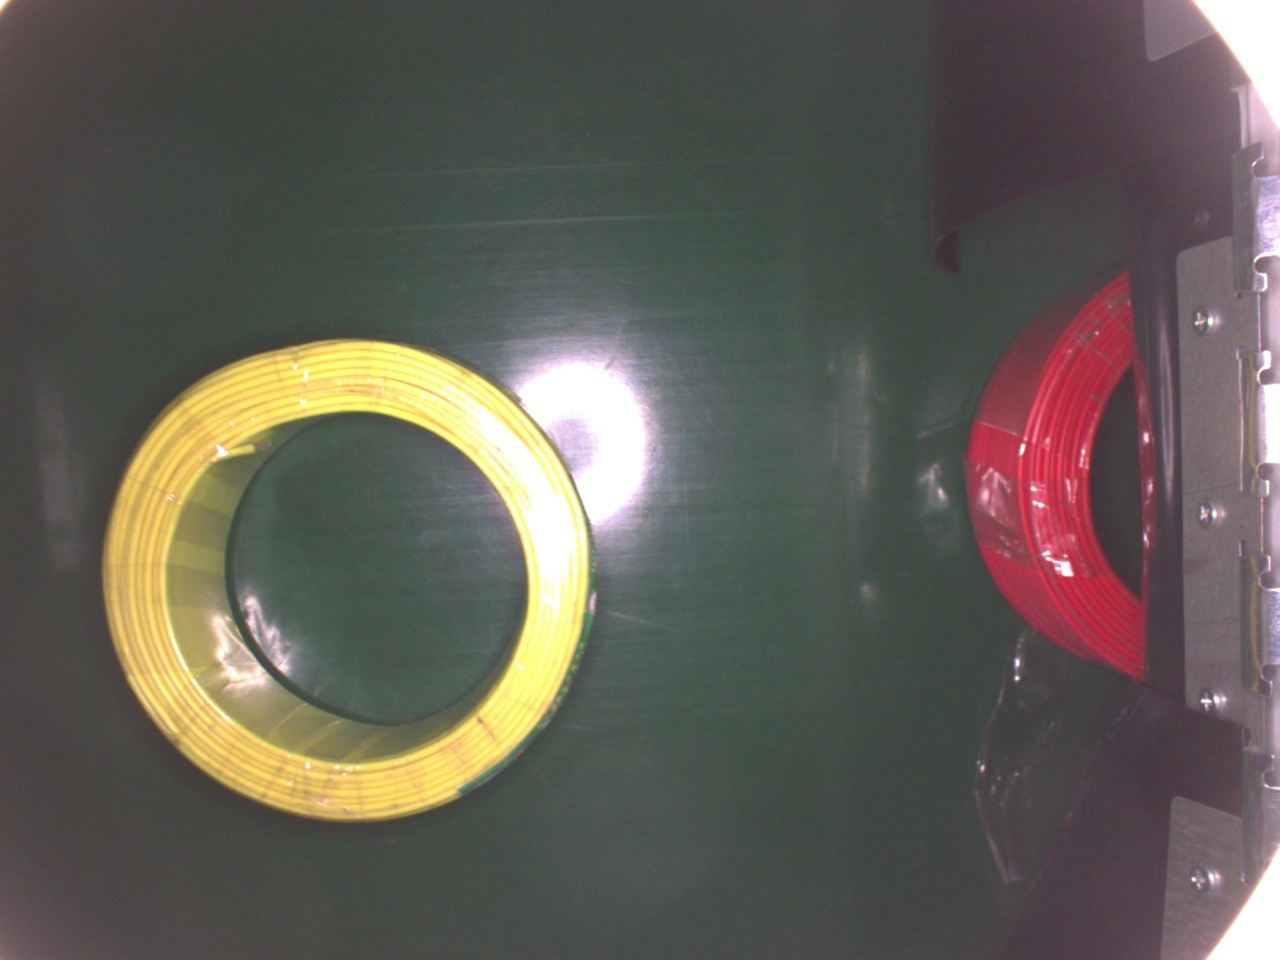red: (969, 261, 1149, 681)
yellow: (101, 339, 592, 830)
